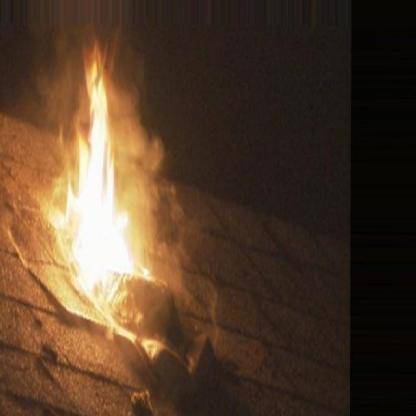fire: (41, 32, 177, 346)
